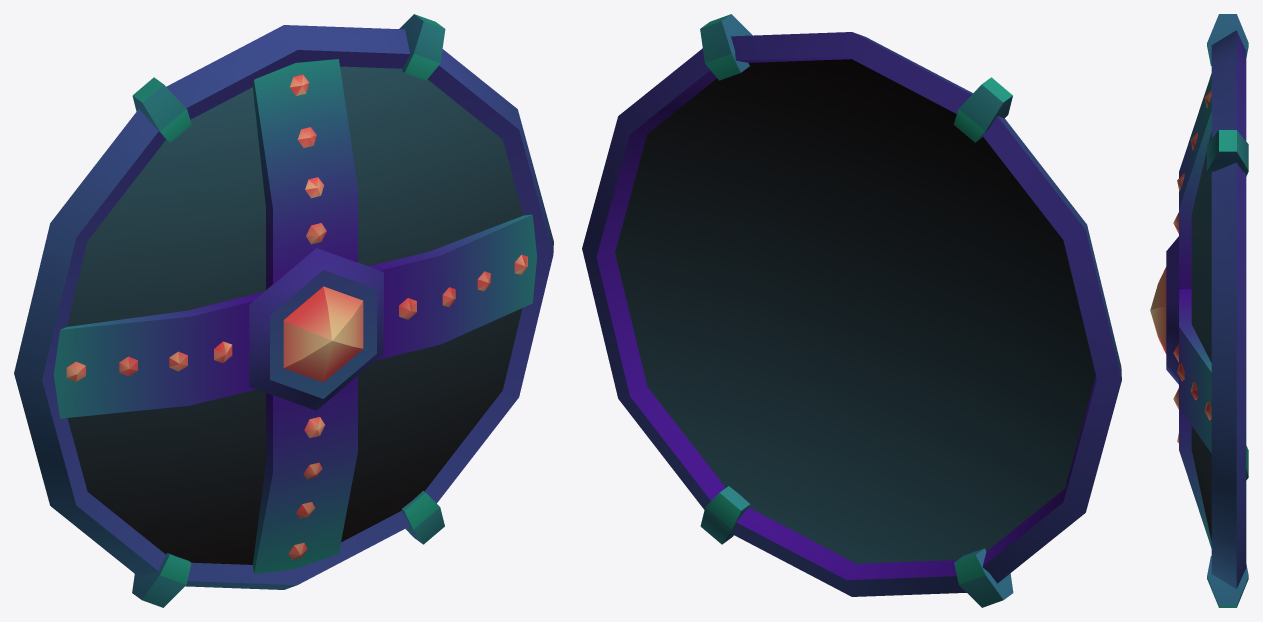
The model's file is Shield1h_19.fbx.
The picture shows the model from 3 angles, left to right: view 1: azimuth 30°, elevation 25°; view 2: azimuth 150°, elevation 25°; view 3: azimuth 270°, elevation 25°; orthographic projection. The views are drawn at different scales.
Parts seen in each view (by area): view 1: Shield1h_19; view 2: Shield1h_19; view 3: Shield1h_19.
Part boxes in pixels (x1=…): Shield1h_19: x1=14, y1=14, x2=553, y2=607; Shield1h_19: x1=582, y1=14, x2=1121, y2=607; Shield1h_19: x1=1150, y1=14, x2=1248, y2=607.
Bounding box in the file's own units: 65.53 × 65.53 × 11.35.
